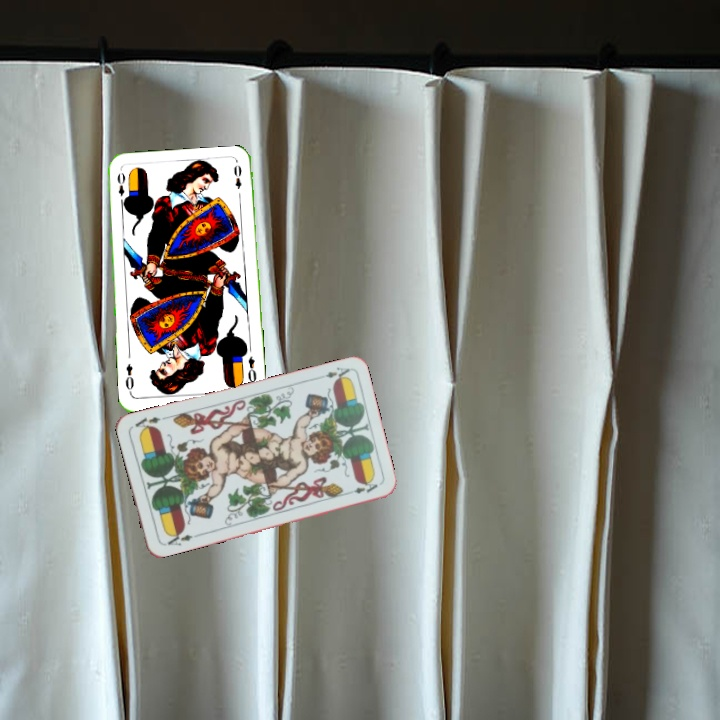EA: (312, 363, 352, 384), (160, 527, 195, 549)
EO: (113, 168, 130, 208), (244, 352, 259, 385)
